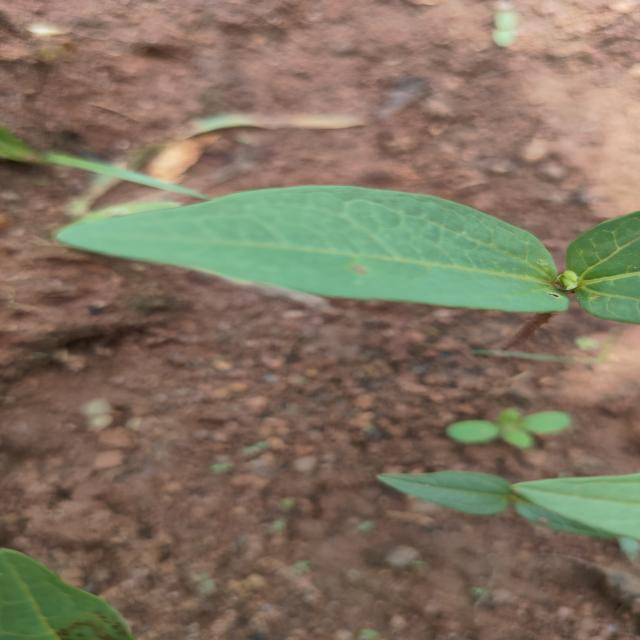Black gram_healthy: (60, 182, 570, 320)
